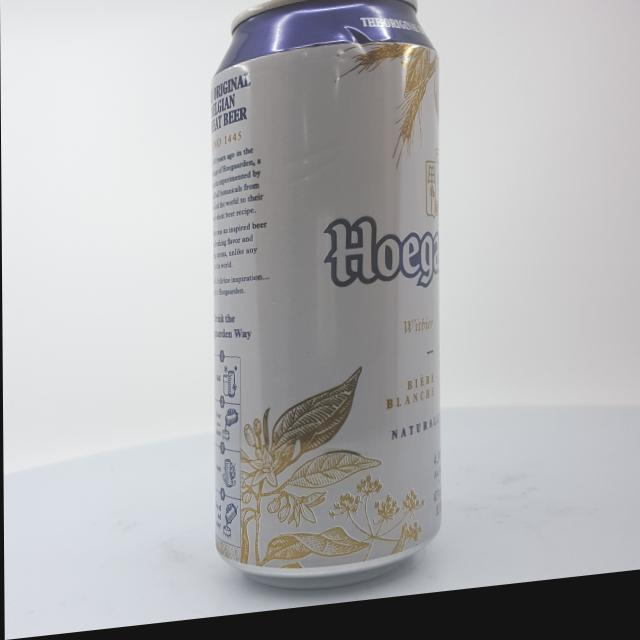beer-can: (209, 0, 442, 606)
